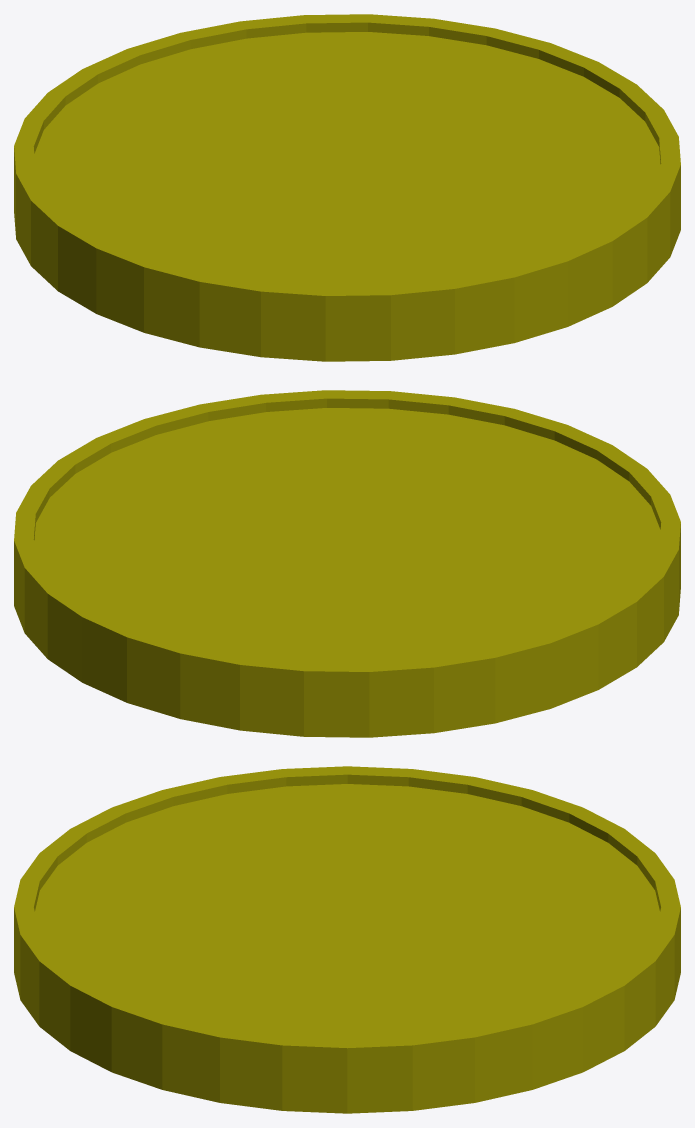
The model's file is Coin.fbx.
3 renders of one model, top to bottom at view 1: azimuth 30°, elevation 25°; view 2: azimuth 150°, elevation 25°; view 3: azimuth 270°, elevation 25°, orthographic.
Visible parts, largest first — view 1: Cylinder; view 2: Cylinder; view 3: Cylinder.
Boxes of the visible parts, x1,y1,x2,y2 form: Cylinder: [14, 14, 680, 361]; Cylinder: [14, 390, 680, 737]; Cylinder: [14, 766, 680, 1113].
Bounding box in the file's own units: 200 × 21.68 × 200.
